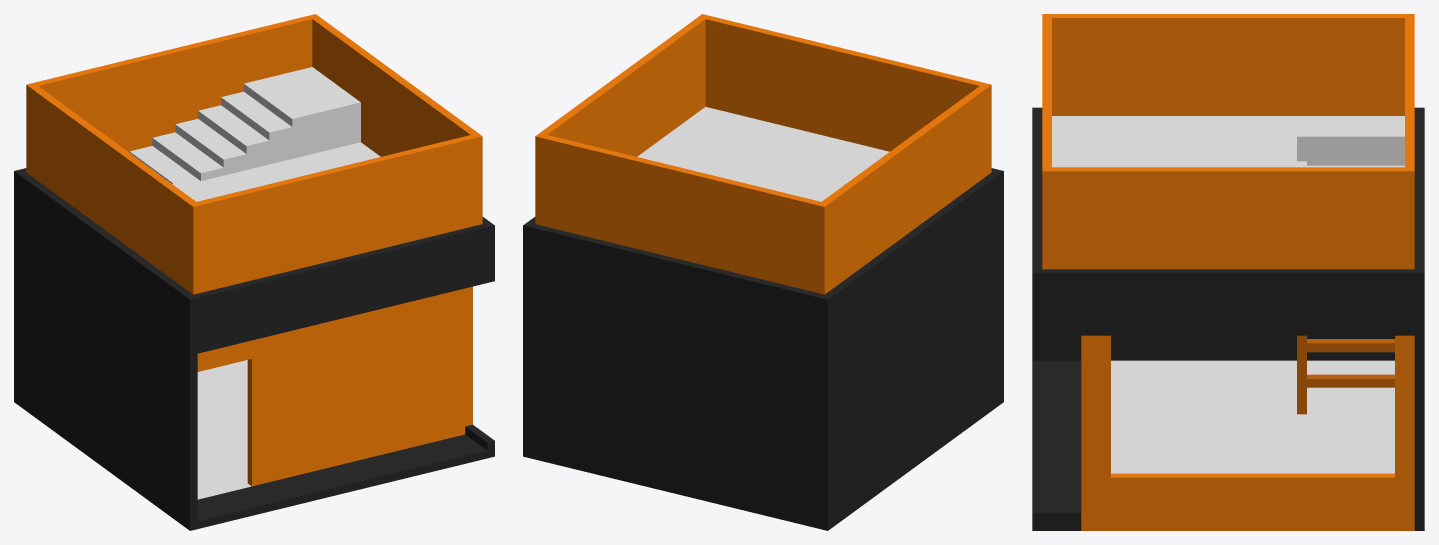
Rendered from HOUSE.obj.
3 views of the same model, side by side, from view 1: azimuth 30°, elevation 25°; view 2: azimuth 150°, elevation 25°; view 3: azimuth 270°, elevation 25° (orthographic). The views are drawn at different scales.
Visible parts, largest first — view 1: HOUSE; view 2: HOUSE; view 3: HOUSE.
Part boxes in pixels (x1,y1,x2,y2): HOUSE: (14,14,494,530); HOUSE: (523,14,1003,530); HOUSE: (1032,14,1424,530).
Bounding box in the file's own units: 40 × 40 × 40.
Materials: 1 (1 with a texture image).
